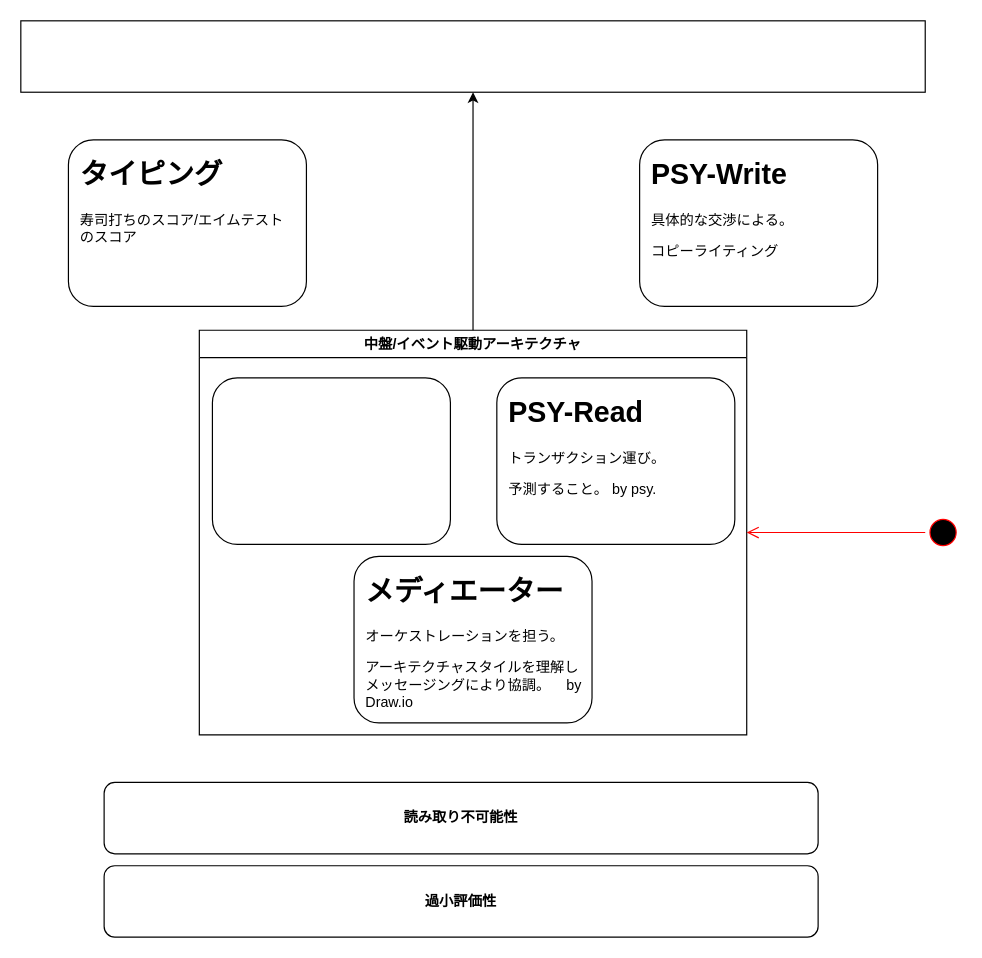
Some shapes in this 982 by 958 pixel diagram are drawn without their labels. The shapes that lost their labels are listed below. From the top down, each one's centre as x and y in pixels, then its label:
At pixel 472 56: "可能な限り早く動く".
At pixel 330 460: "ジョブ トランザクションキープ 安定した情報源として機能する。リスクを負ってはいけない。".
